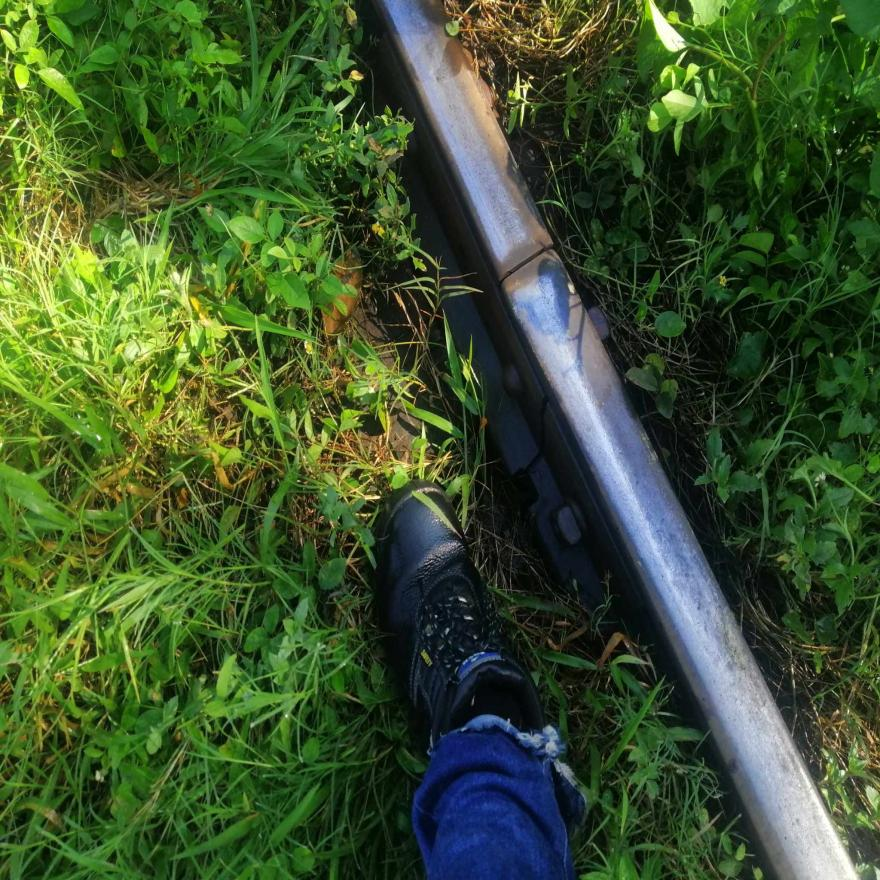railway-gap: (476, 196, 576, 322)
